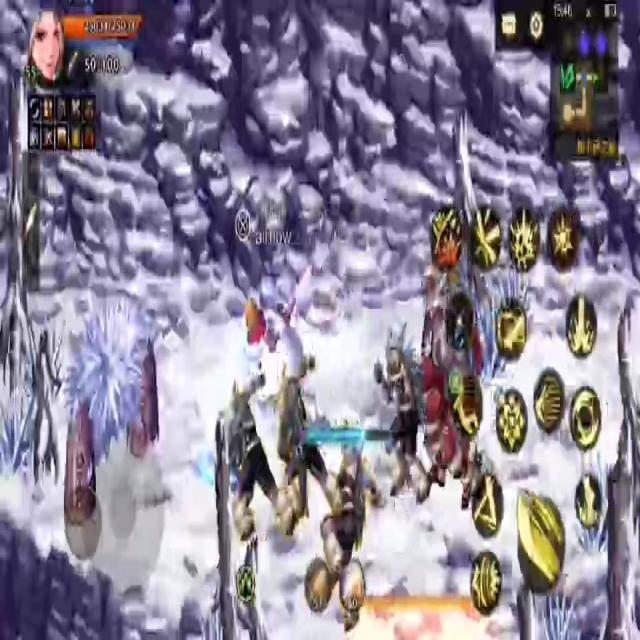player: (242, 294, 308, 402)
